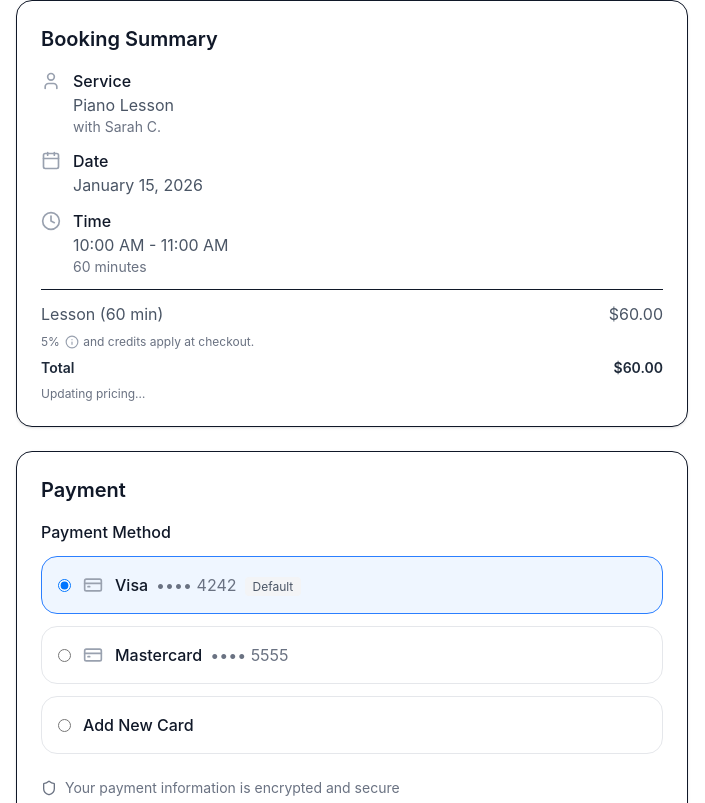
it: CheckoutFlow › New card PaymentIntent creation error paths › shows error when checkout API fails during new-card intent creation
# Click "Add New Card" to trigger the intent creation useEffect
Step 1. Click the text "Add New Card" → (138, 725), box [83,715,194,735]
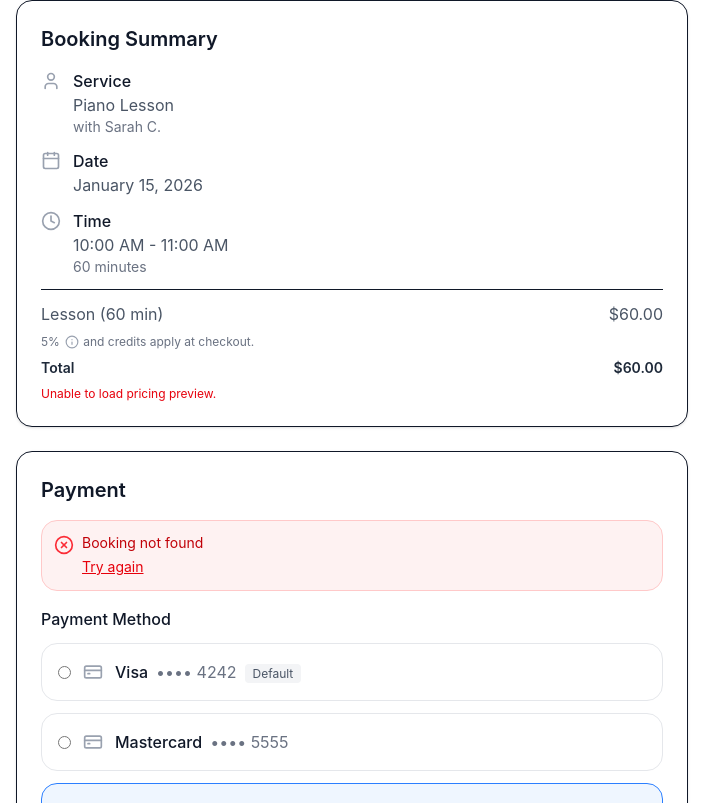
Check: the text "Booking not found" is shown, box [82,534,203,551]
